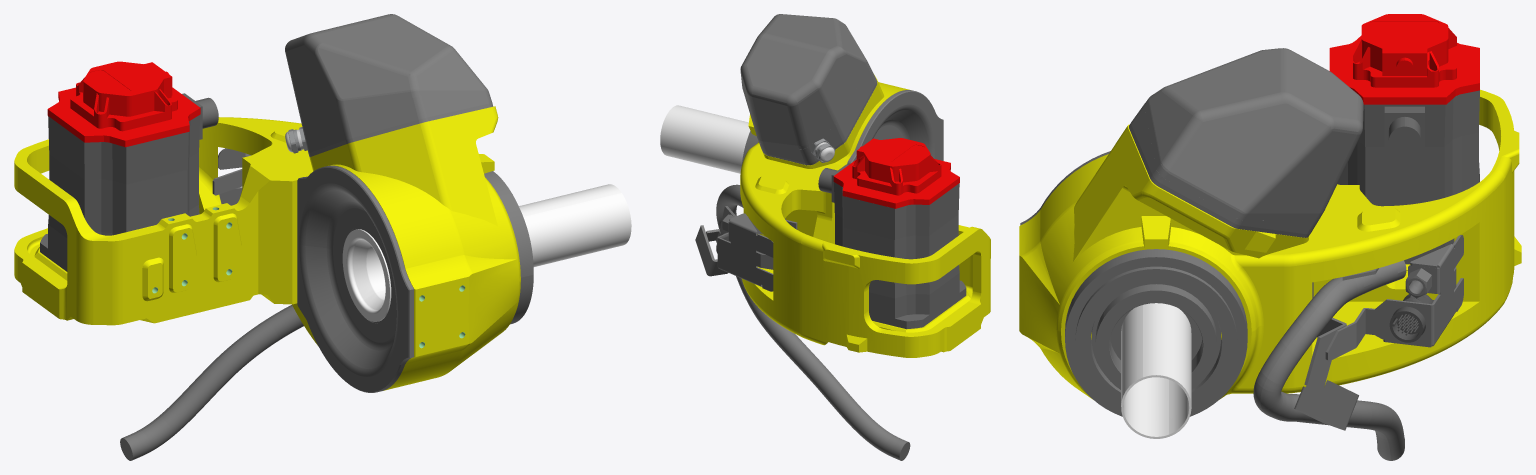
3 renders of one model, left to right at view 1: azimuth 30°, elevation 25°; view 2: azimuth 150°, elevation 25°; view 3: azimuth 270°, elevation 25°, orthographic. The views are drawn at different scales.
Parts seen in each view (by area): view 1: Mesh_0; view 2: Mesh_0; view 3: Mesh_0.
Boxes of the visible parts, x1,y1,x2,y2 form: Mesh_0: [14, 14, 631, 460]; Mesh_0: [660, 14, 990, 460]; Mesh_0: [1019, 14, 1521, 460].
Size of the model in its own units: 0.5206 by 0.4579 by 0.4345.
